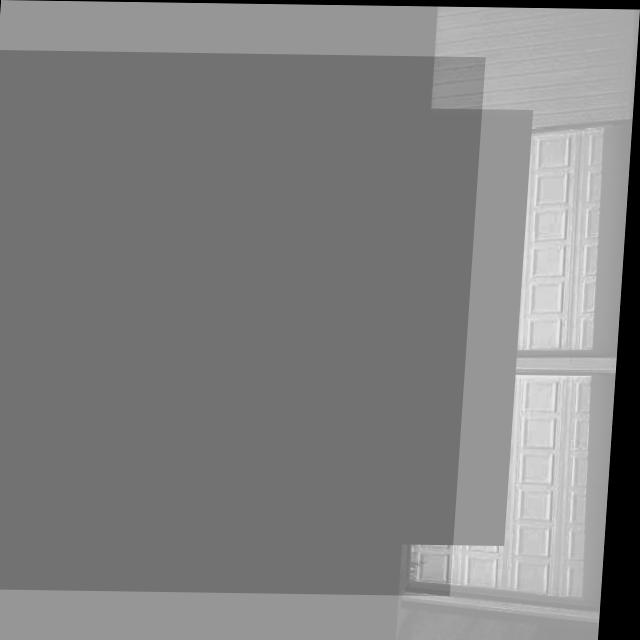qr_code: (0, 50, 485, 595)
